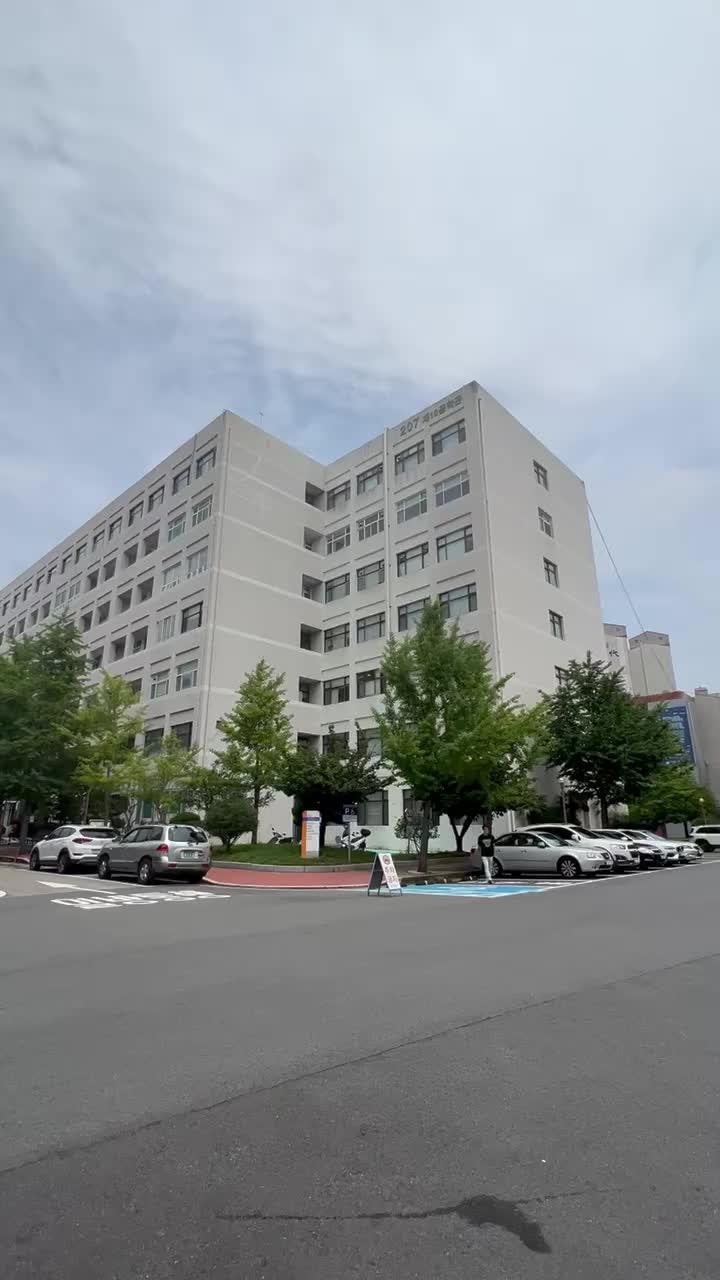building: (146, 370, 592, 658)
